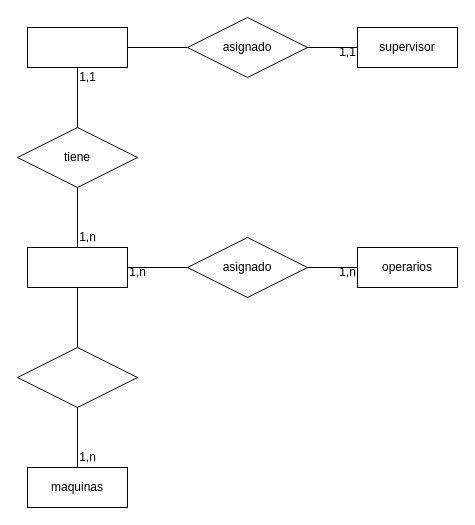
The diagram is 475 pixels wide and 525 high, and some of its shapes have lost their labels. The shapes that lost their labels are listed below. From the top down, each one's box as (x1, y1, x2, y2) in pixels, then its label:
(26, 26, 128, 68): talleres
(26, 246, 128, 288): celulas
(16, 346, 138, 408): contiene
